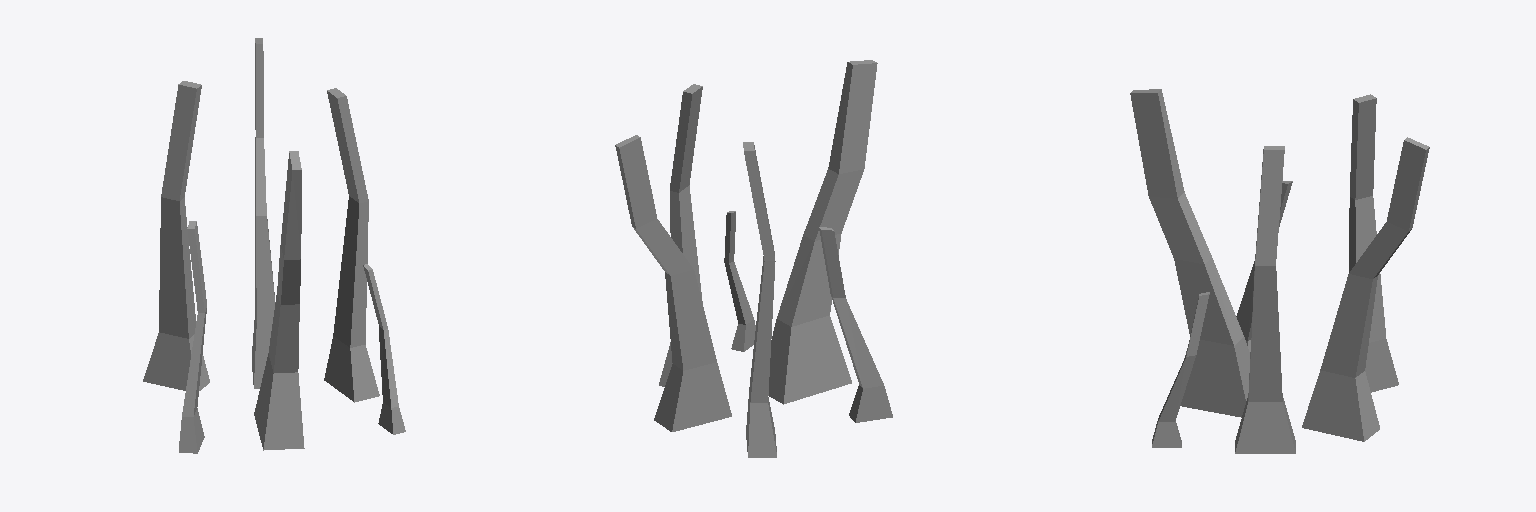
The model's file is Grass2.obj.
3 views of the same model, side by side, from view 1: azimuth 30°, elevation 25°; view 2: azimuth 150°, elevation 25°; view 3: azimuth 270°, elevation 25° (orthographic).
Visible parts, largest first — view 1: Cube.001_Cube.006; view 2: Cube.001_Cube.006; view 3: Cube.001_Cube.006.
Part boxes in pixels (bbox=[...]): Cube.001_Cube.006: bbox=[143, 38, 405, 453]; Cube.001_Cube.006: bbox=[615, 60, 892, 457]; Cube.001_Cube.006: bbox=[1130, 89, 1429, 453].
Bounding box in the file's own units: 0.4987 × 0.7236 × 0.6376.